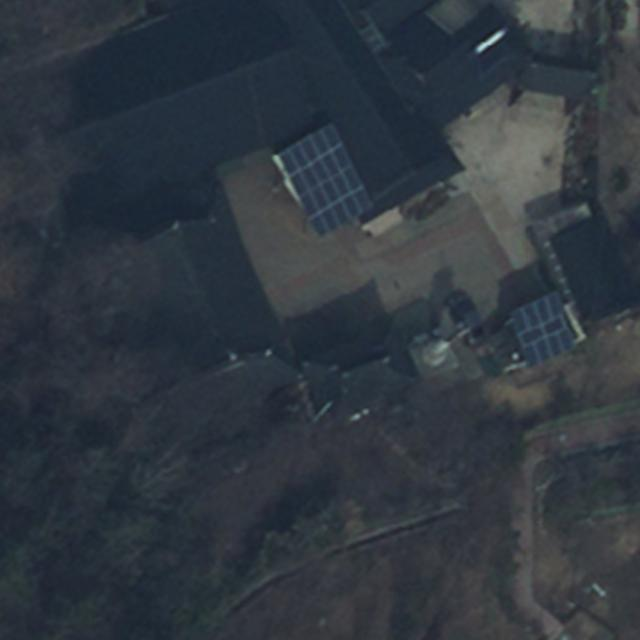panel: (274, 120, 374, 239), (508, 289, 577, 368)
